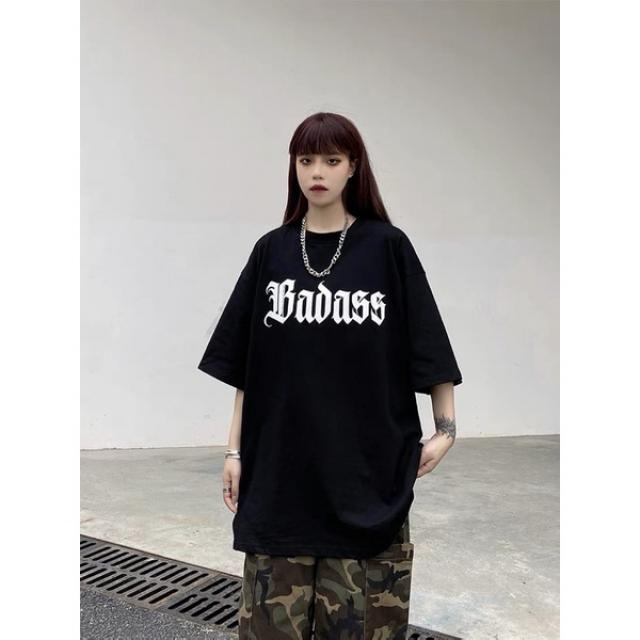Shirt: (192, 220, 470, 557)
